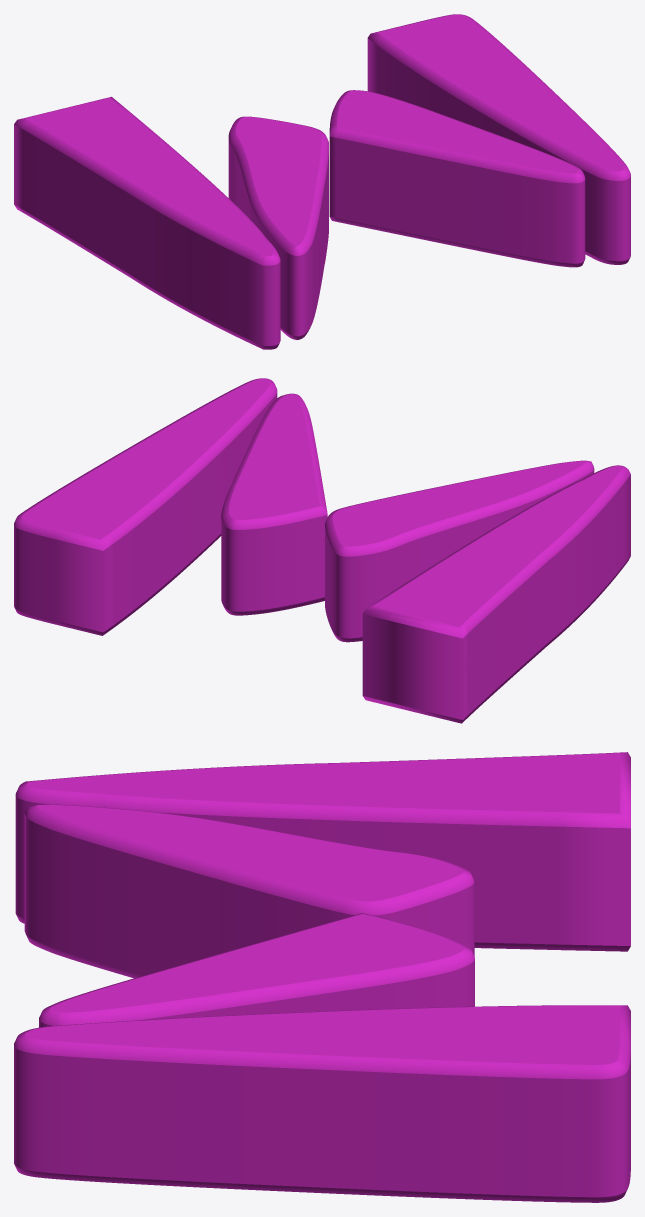
Rendered from Letter_M.fbx.
3 views of the same model, one above another, from view 1: azimuth 30°, elevation 25°; view 2: azimuth 150°, elevation 25°; view 3: azimuth 270°, elevation 25° (orthographic). The views are drawn at different scales.
Parts seen in each view (by area): view 1: Letter_M; view 2: Letter_M; view 3: Letter_M.
Part boxes in pixels (x1,y1,x2,y2): Letter_M: (14,14,630,349); Letter_M: (14,378,630,723); Letter_M: (14,752,630,1202).
Size of the model in its own units: 0.7026 by 0.14 by 0.5693.
